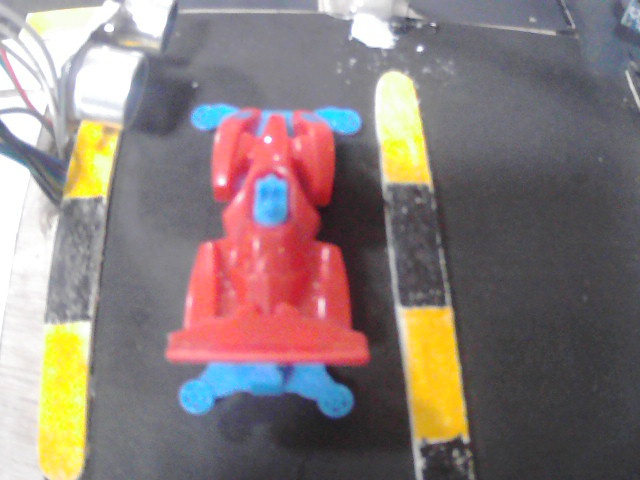car: (174, 95, 366, 439)
uno_breadboard: (65, 2, 154, 160)
